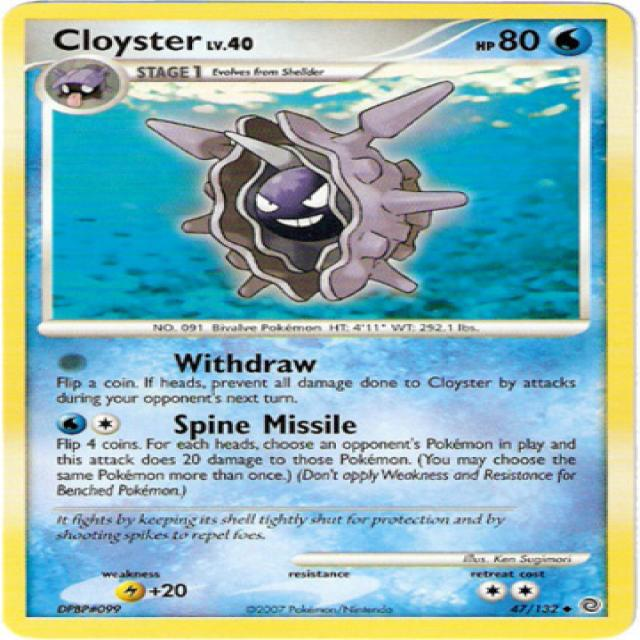Cloyster: (190, 110, 436, 300)
